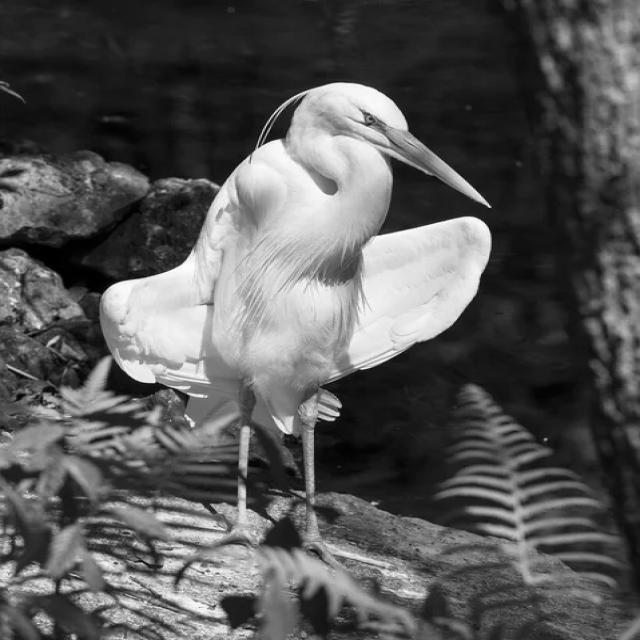Animal: (100, 82, 492, 568)
